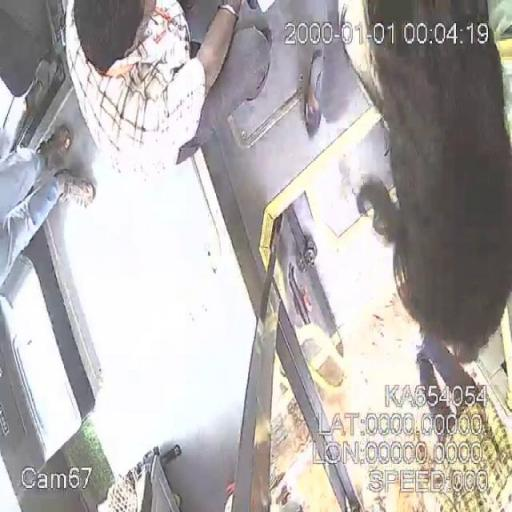persona: (62, 0, 245, 176), (1, 122, 97, 288)
